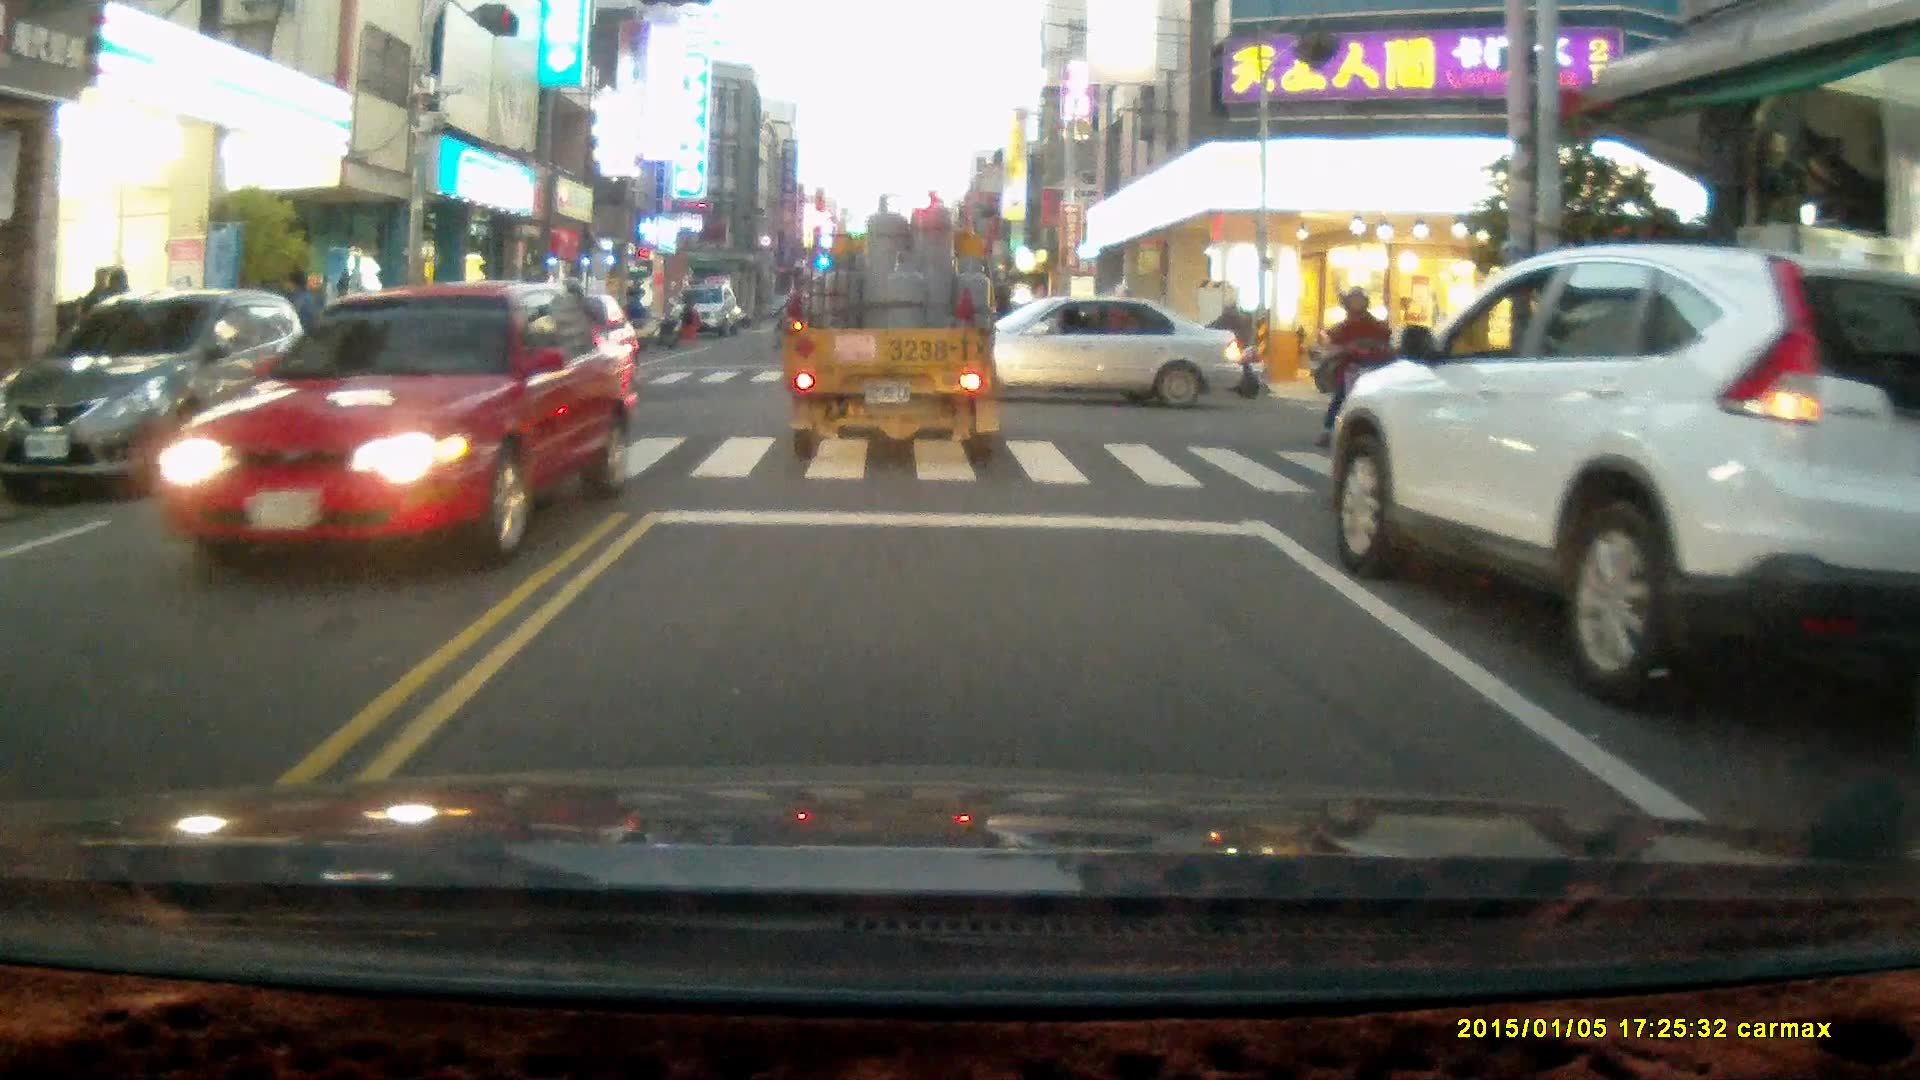rider: (1313, 280, 1406, 466), (1172, 294, 1264, 397)
vehicle: (1324, 239, 1920, 713), (141, 277, 647, 570), (785, 191, 1010, 463), (918, 295, 1245, 412), (672, 284, 740, 336)
